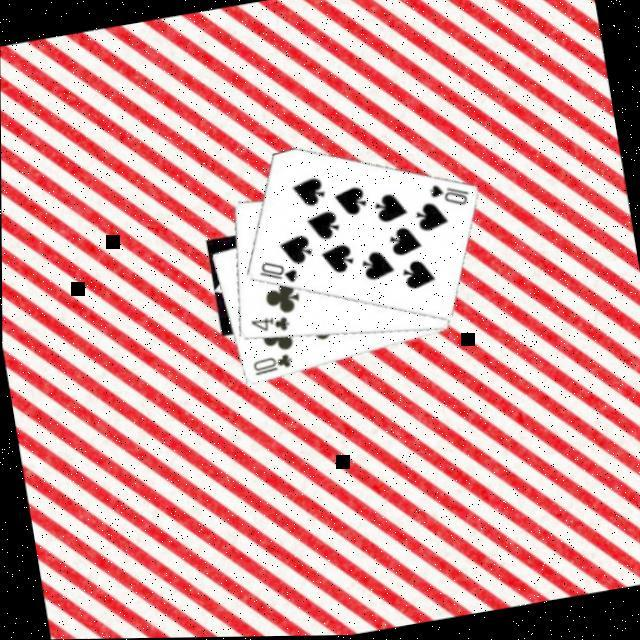10C: (248, 350, 295, 380)
10S: (423, 177, 472, 215), (252, 254, 300, 292)
4C: (245, 311, 292, 340)
